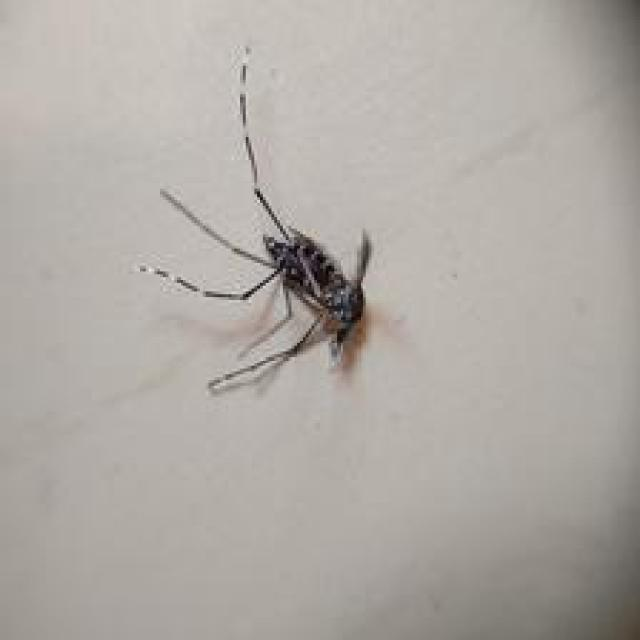Aedes albopictus: (134, 41, 374, 396)
